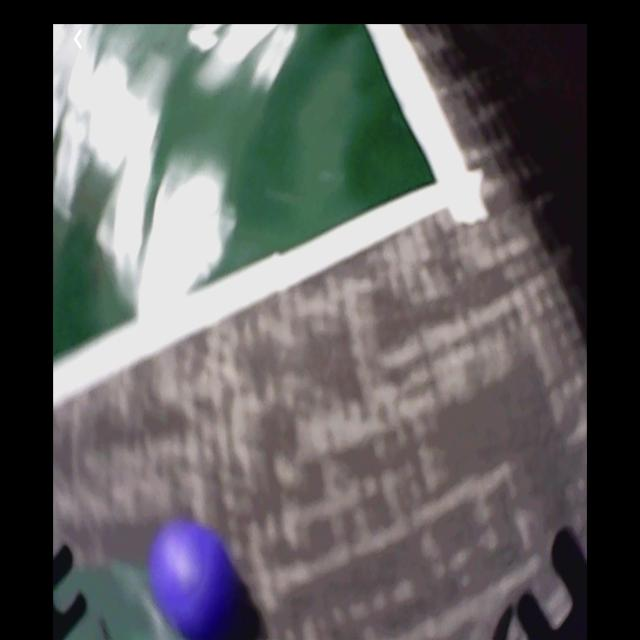ball: (150, 520, 232, 636)
